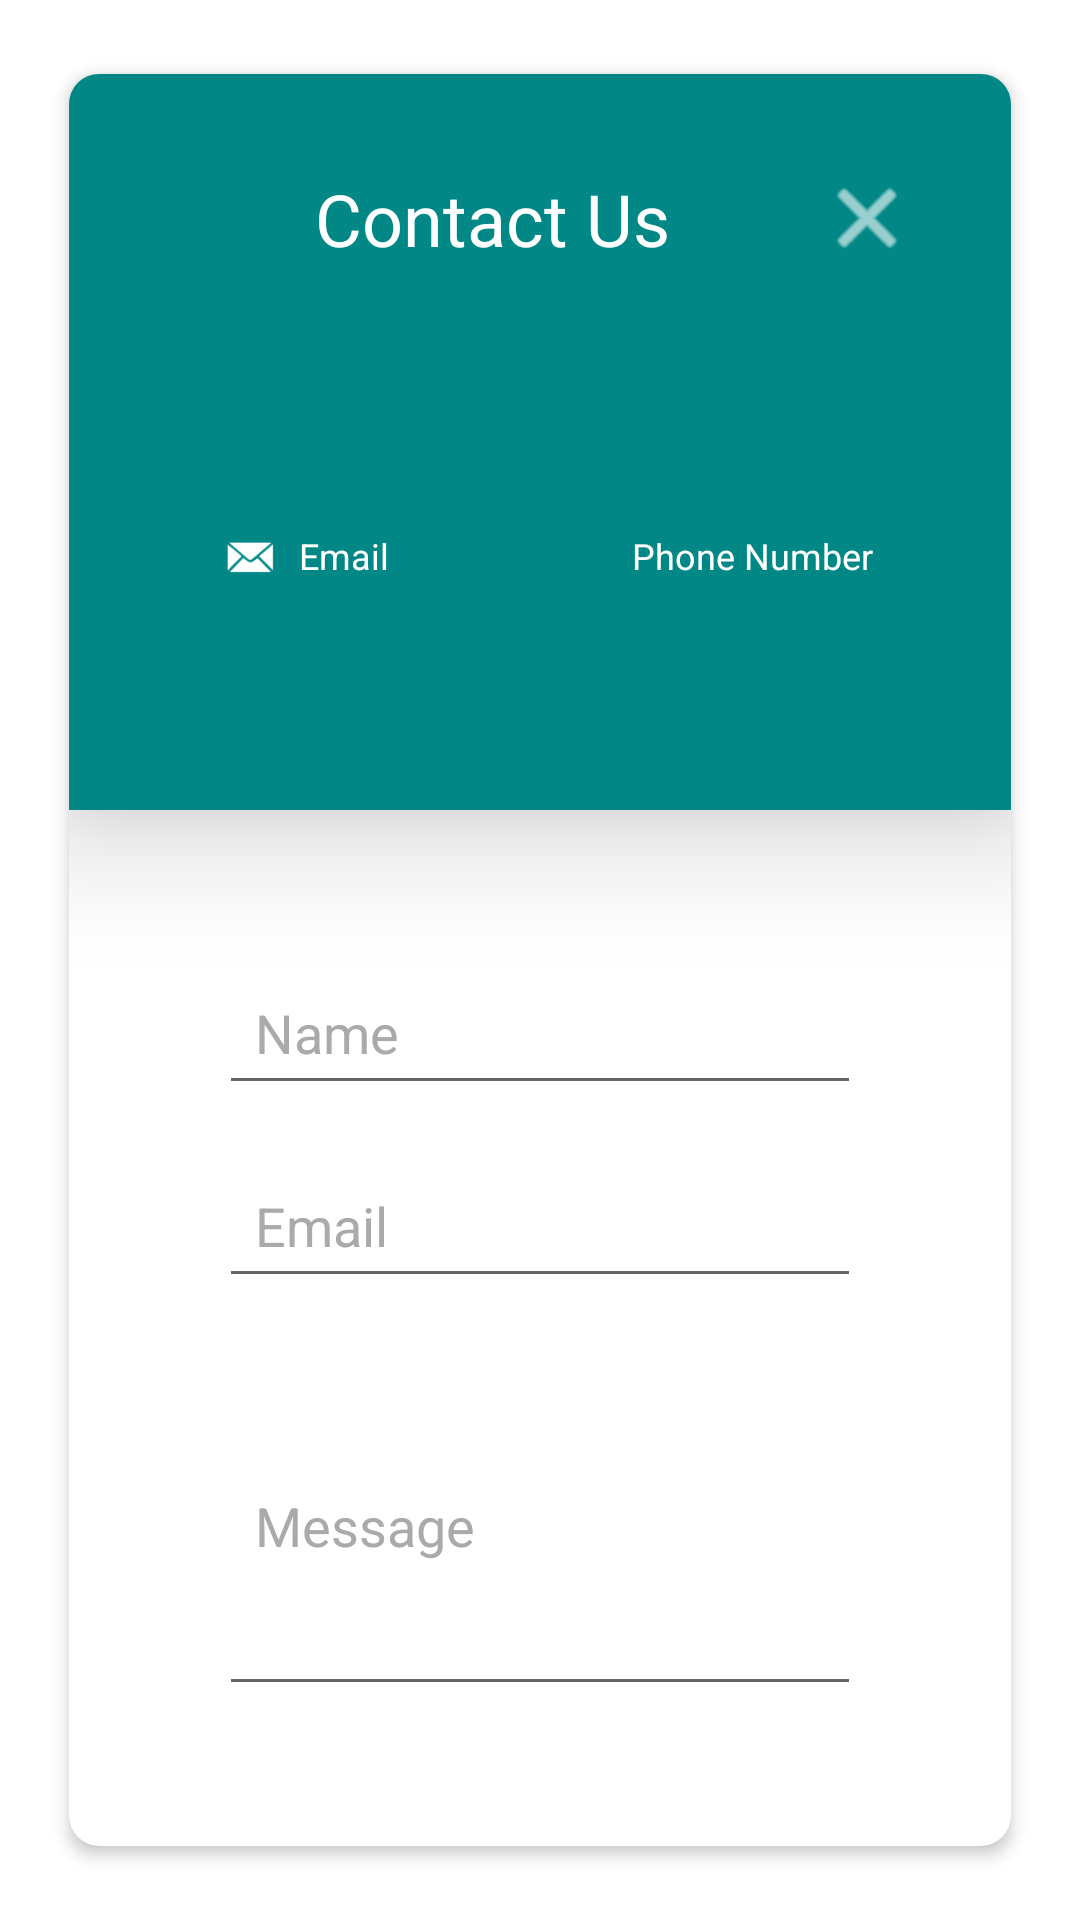

Where icons sit on this 1080*1920 app screen, as (x1, y1, x2, y2):
Close Button: (837, 188, 897, 248)
